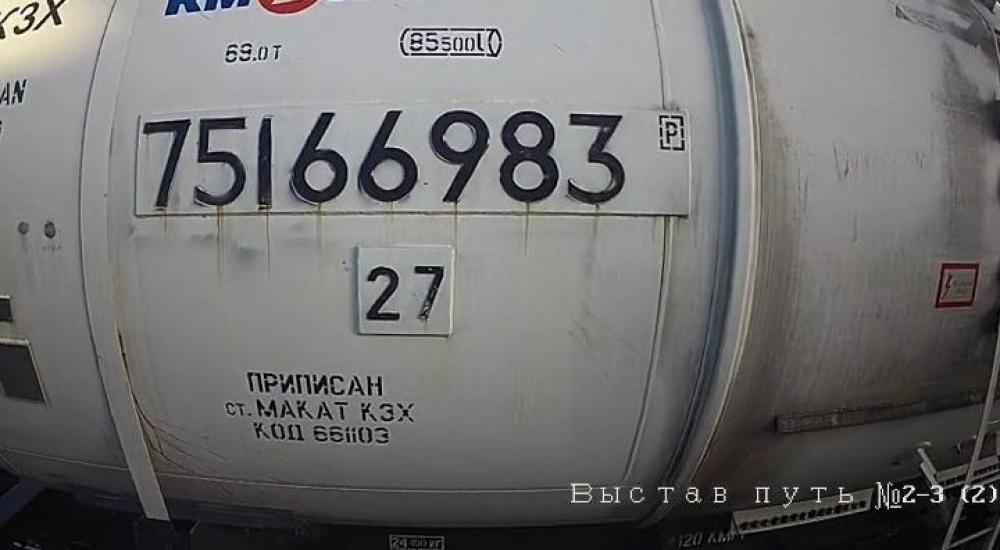Wagon-number: (138, 108, 630, 211)
